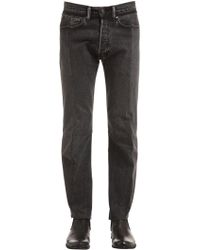jeans: (51, 1, 160, 234)
